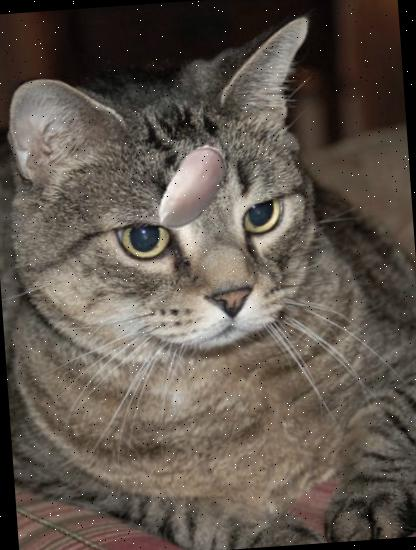Hazelnut: (140, 136, 244, 242)
